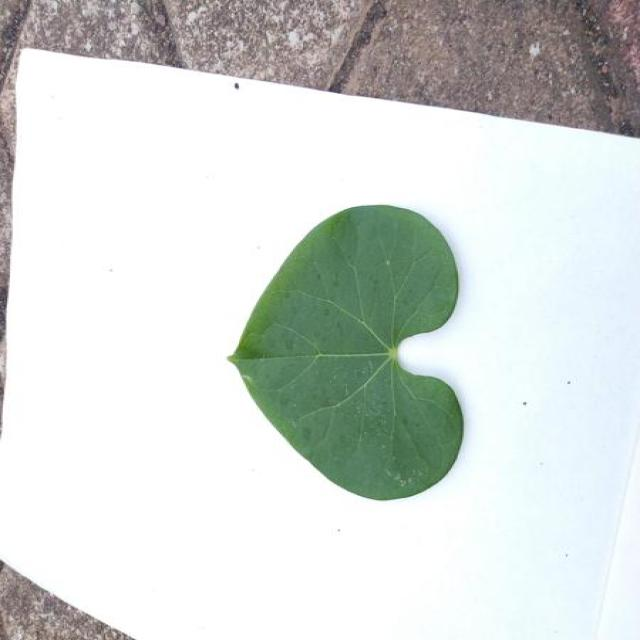Amruthaballi: (230, 205, 463, 499)
